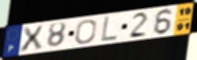2: (126, 12, 151, 39)
6: (153, 7, 174, 36)
8: (46, 22, 68, 49)
L: (100, 15, 119, 42)
O: (74, 18, 98, 45)
X: (19, 25, 45, 53)
